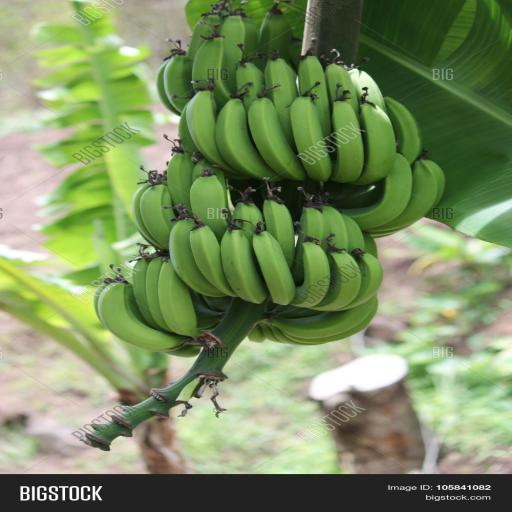banana-unripe: (69, 0, 476, 390)
